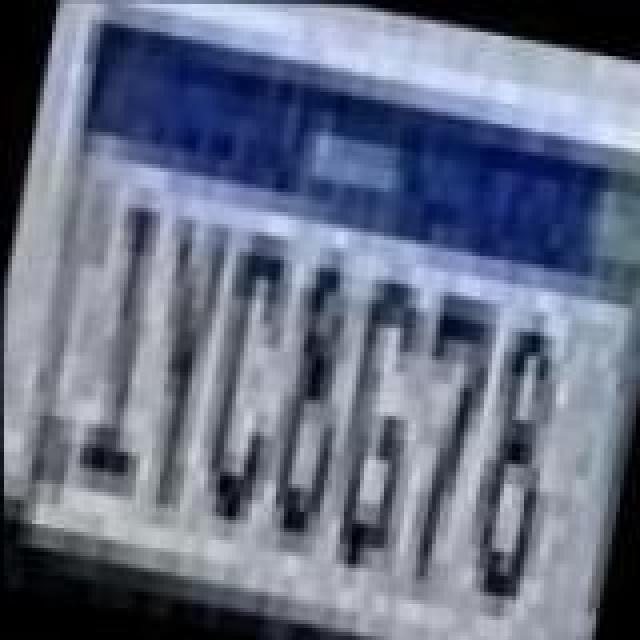7: (376, 272, 508, 588)
8: (252, 248, 372, 548), (454, 312, 574, 600)
C: (180, 222, 308, 530)
G: (310, 274, 438, 582)
I: (70, 194, 190, 498)
Y: (122, 202, 238, 514)
